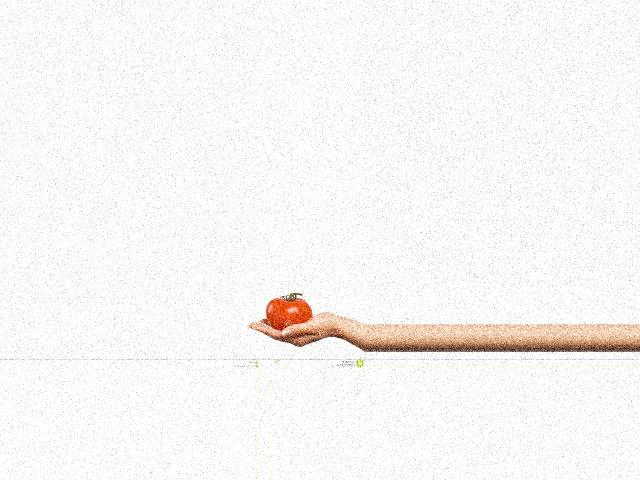tomato: (265, 298, 311, 330)
